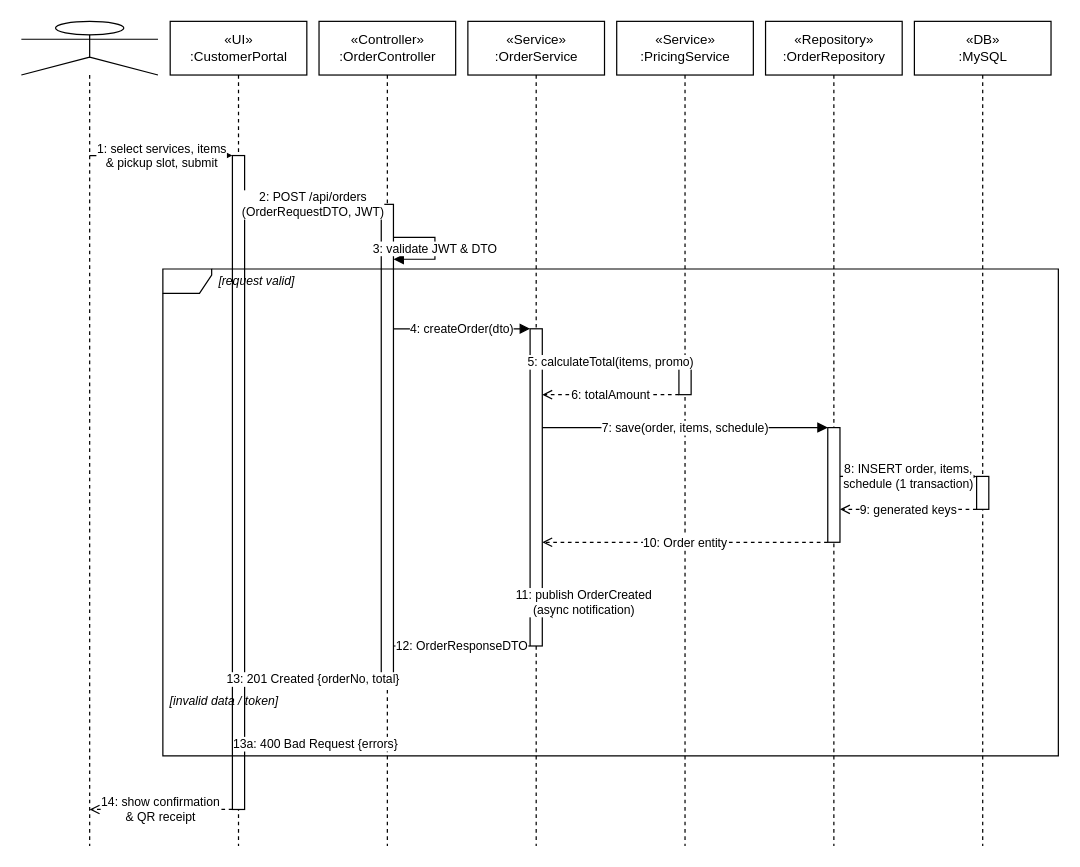
Image size: 1080x867. Some labels were removed from this diagram. The shapes that lost their labels are listed below. From the top down, each one's box as (x1, y1, x2, y2) in pixels, then its label:
(20, 20, 158, 846): Customer
(162, 268, 1058, 756): alt
